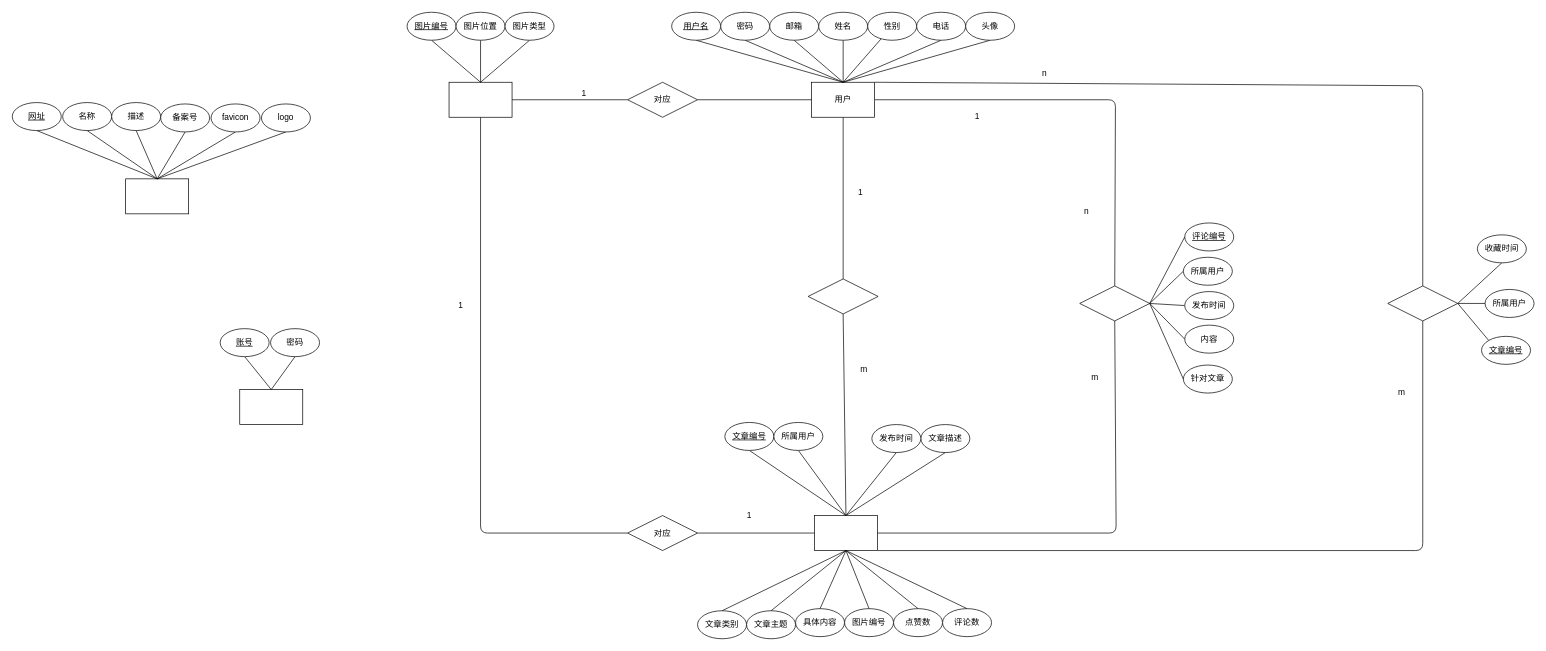
Image size: 1546x651. Some labels were removed from this diagram. Here are the shapes that lost their labels. From the top down, the centre of each, then its label:
the point at 480,99: 图片
the point at 157,196: 网站
the point at 842,296: 书写
the point at 1114,303: 评论
the point at 1422,303: 收藏
the point at 271,407: 管理员
the point at 845,533: 文章
